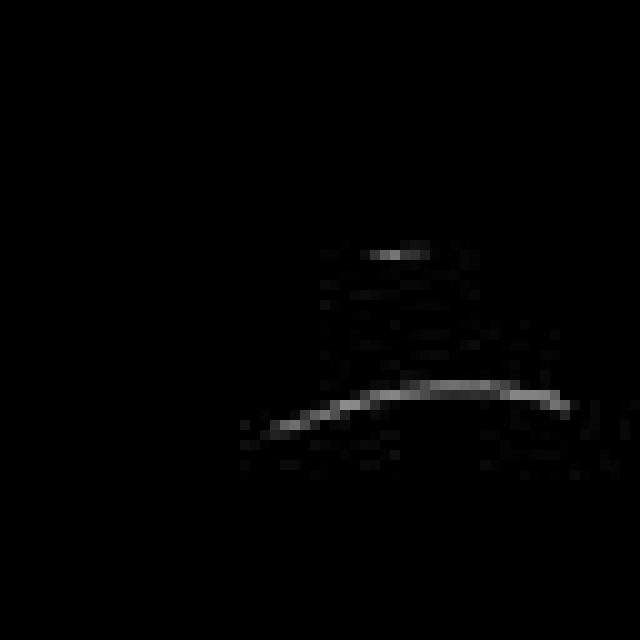2 -two-: (251, 228, 580, 452)
